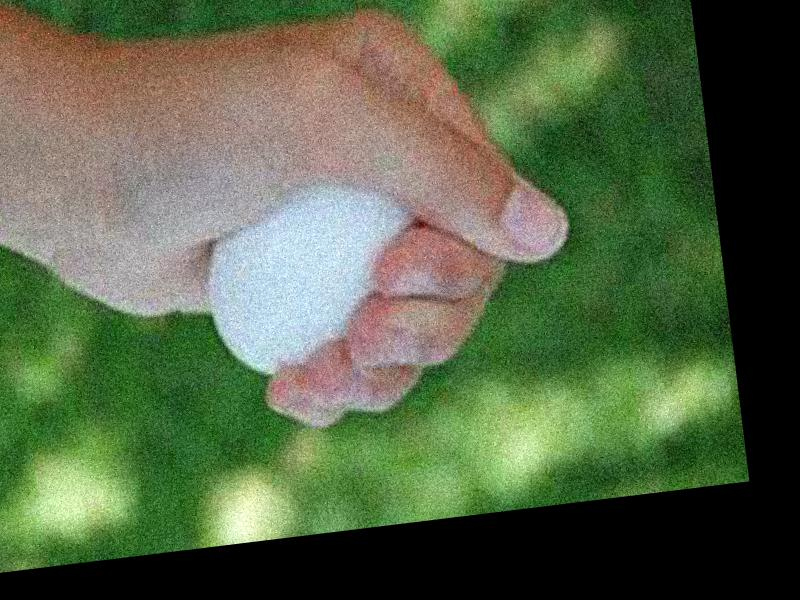Eggs: (198, 185, 432, 380)
